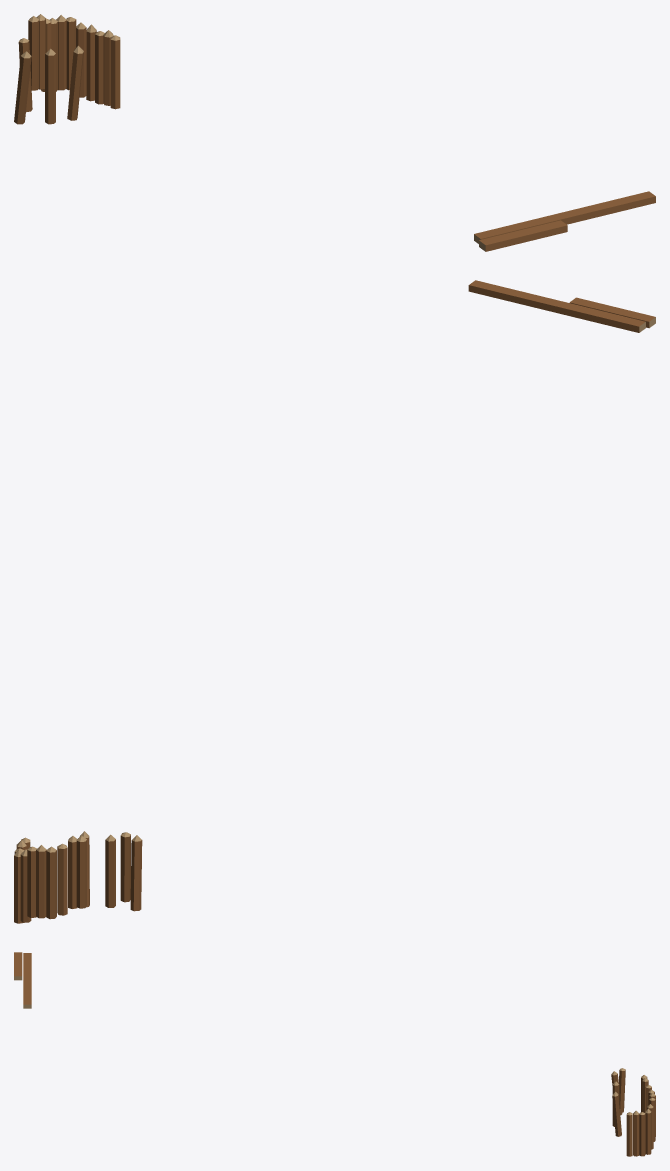
The picture shows the model from 3 angles, top to bottom: view 1: azimuth 30°, elevation 25°; view 2: azimuth 150°, elevation 25°; view 3: azimuth 270°, elevation 25°; orthographic projection. The views are drawn at different scales.
Visible parts, largest first — view 1: Cylinder1631_brown_0, Box15726_brown_0, Box15731_brown_0, Cylinder1631_brown2_0; view 2: Cylinder1631_brown_0, Box15726_brown_0; view 3: Cylinder1631_brown_0, Box15726_brown_0.
Part boxes in pixels (<box>): Cylinder1631_brown_0: <box>14,18,120,124</box>; Box15726_brown_0: <box>474,191,655,239</box>; Box15731_brown_0: <box>479,220,567,251</box>; Cylinder1631_brown2_0: <box>19,14,120,58</box>; Cylinder1631_brown_0: <box>14,835,142,923</box>; Box15726_brown_0: <box>468,280,645,332</box>; Cylinder1631_brown_0: <box>611,1070,655,1156</box>; Box15726_brown_0: <box>23,953,31,1004</box>.
Size of the model in its own units: 763 by 1107 by 3945.
